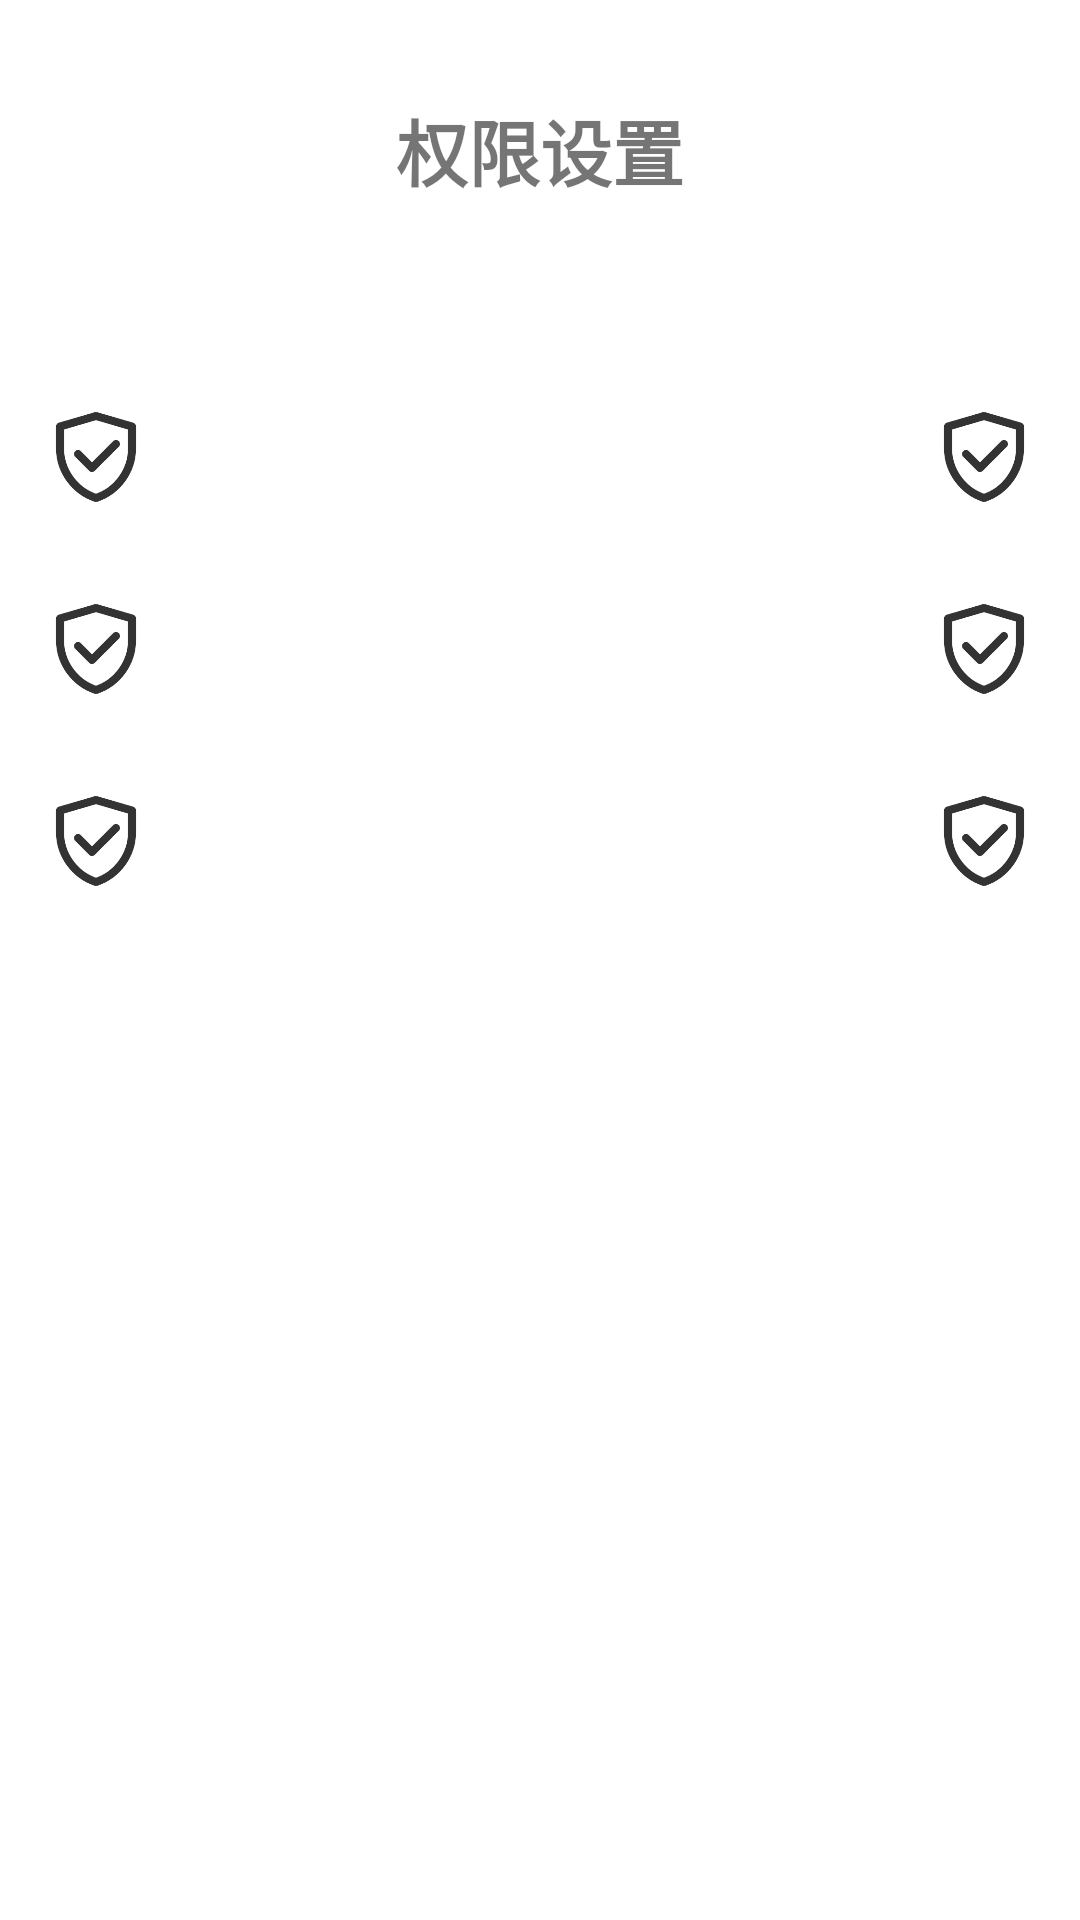

Icons on this 1080*1920 Android screen, each with the point to tap as [x,y]:
permission: [96,457], [984,457], [96,649], [984,649], [96,841], [984,841]
